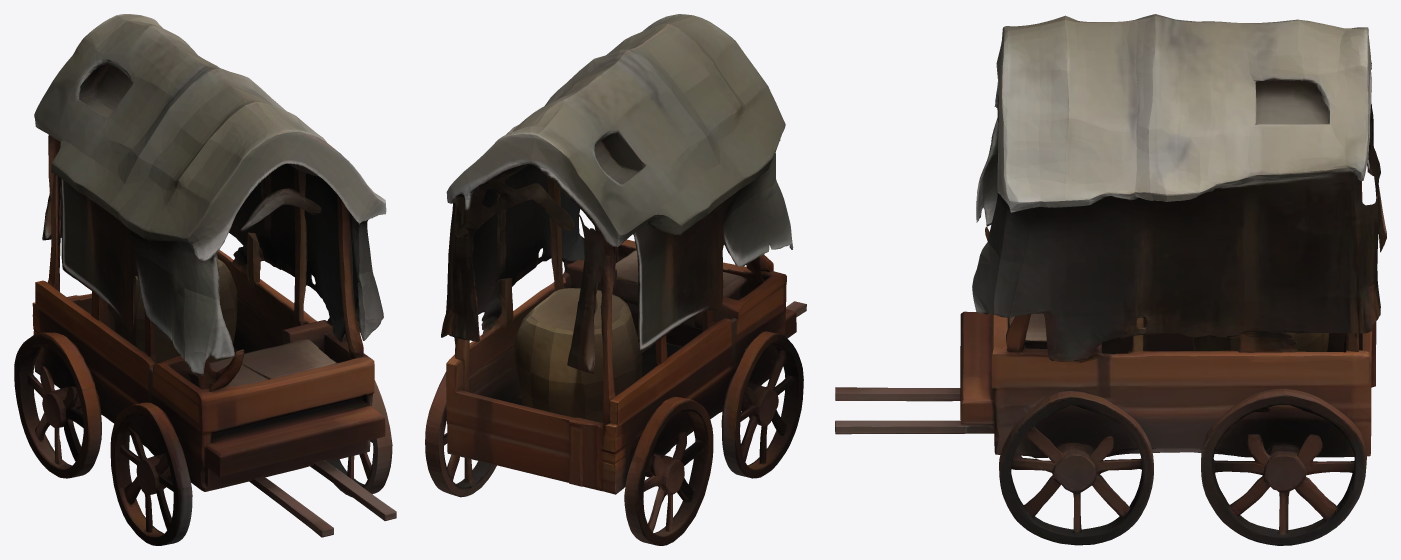
The model's file is 3deditformer_t04.glb.
The picture shows the model from 3 angles, left to right: view 1: azimuth 30°, elevation 25°; view 2: azimuth 150°, elevation 25°; view 3: azimuth 270°, elevation 25°; orthographic projection. The views are drawn at different scales.
Parts seen in each view (by area): view 1: geometry_0; view 2: geometry_0; view 3: geometry_0.
Part boxes in pixels (<box>): geometry_0: <box>14,14,396,545</box>; geometry_0: <box>425,14,806,545</box>; geometry_0: <box>835,14,1386,545</box>.
Bounding box in the file's own units: 1.04 × 1.88 × 1.99.
1 material, 1 textured.
